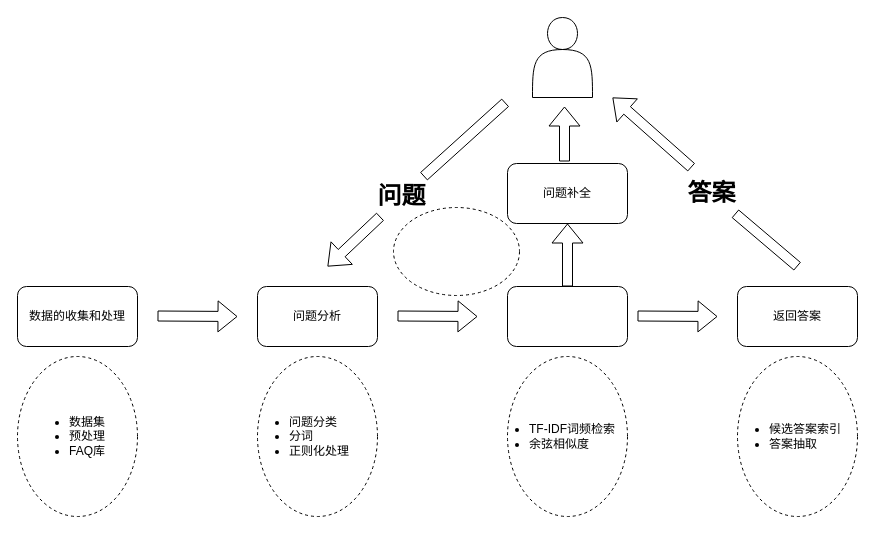
The diagram is 875 pixels wide and 534 high, and some of its shapes have lost their labels. Here are the shapes that lost their labels. From the top down, the centre of each, then its label:
the point at 562,57: 用户
the point at 456,251: 收集 未知问题和未知问法 提交至后台人为设置答复
the point at 567,316: 信息检索
